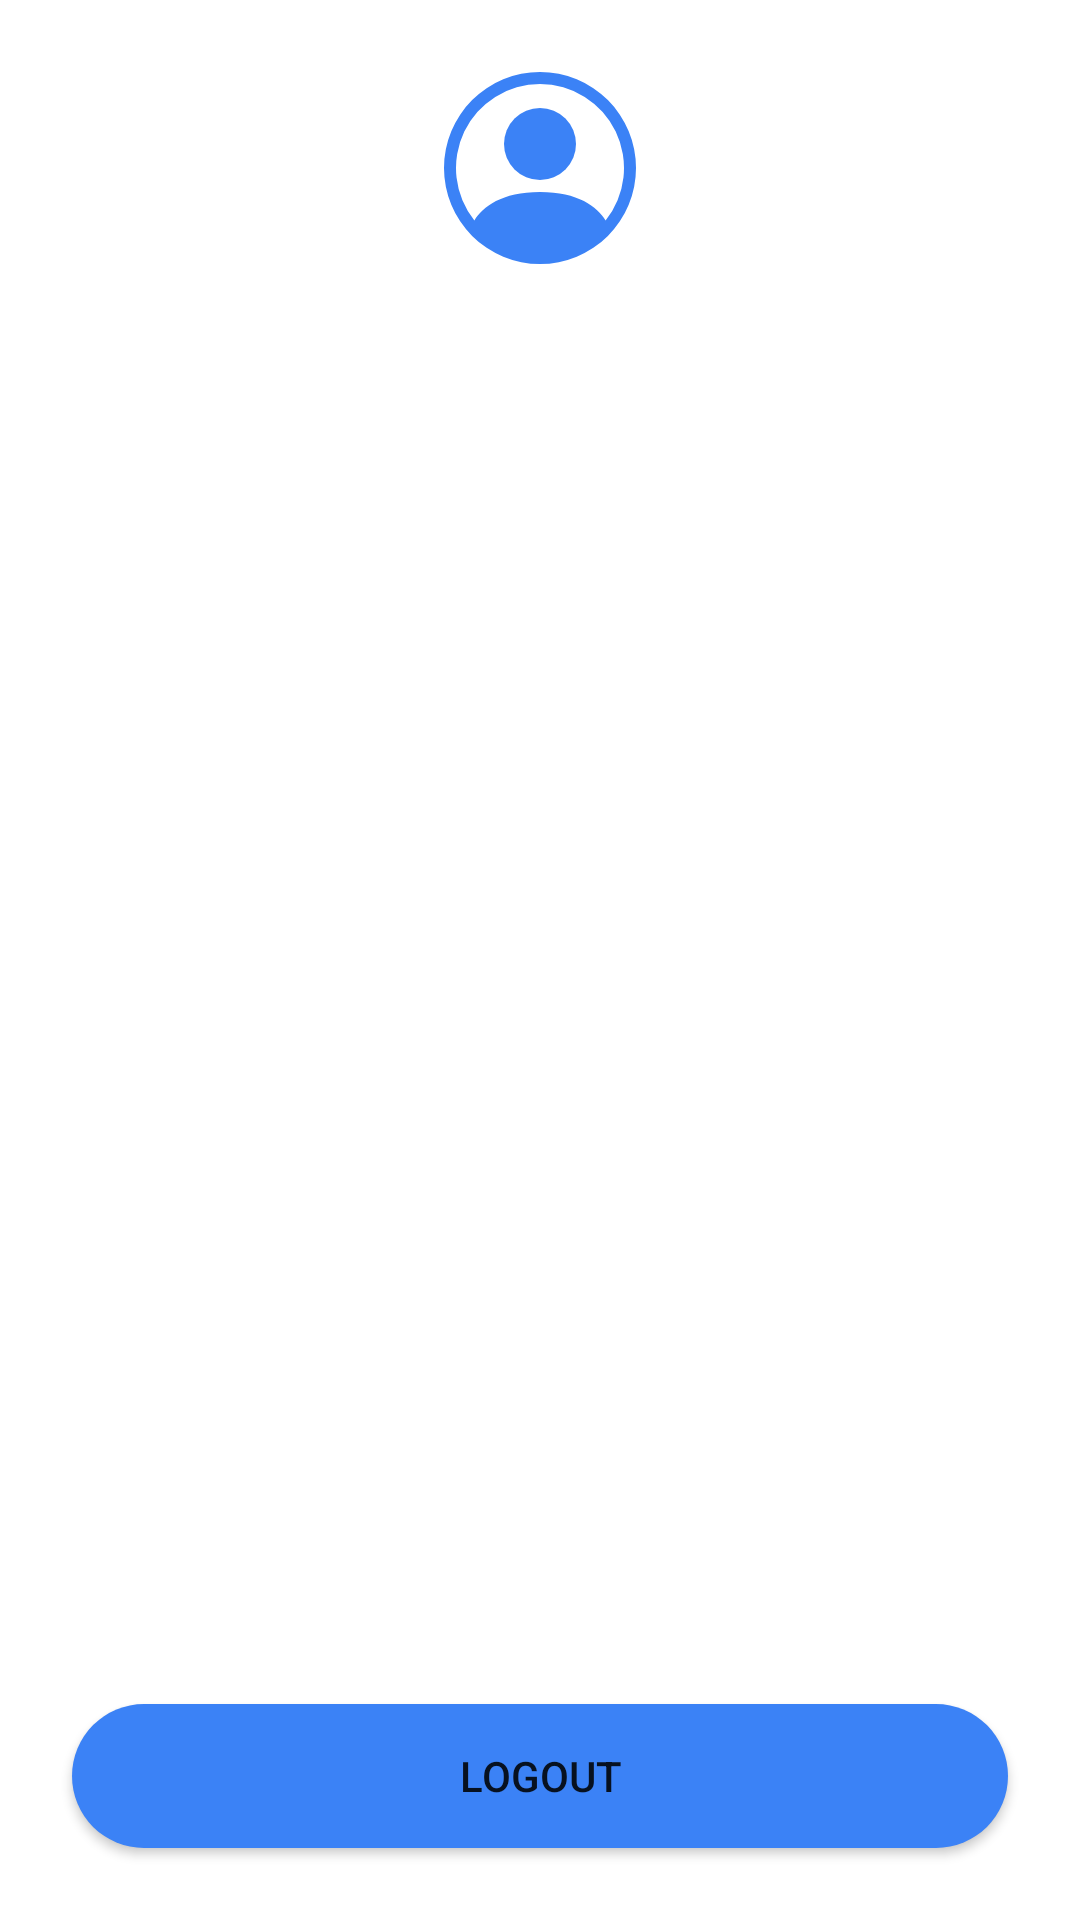

Where to tap for icons on this 1080w x 1920h app screen, as [x,y]:
person circle: [540,168]
